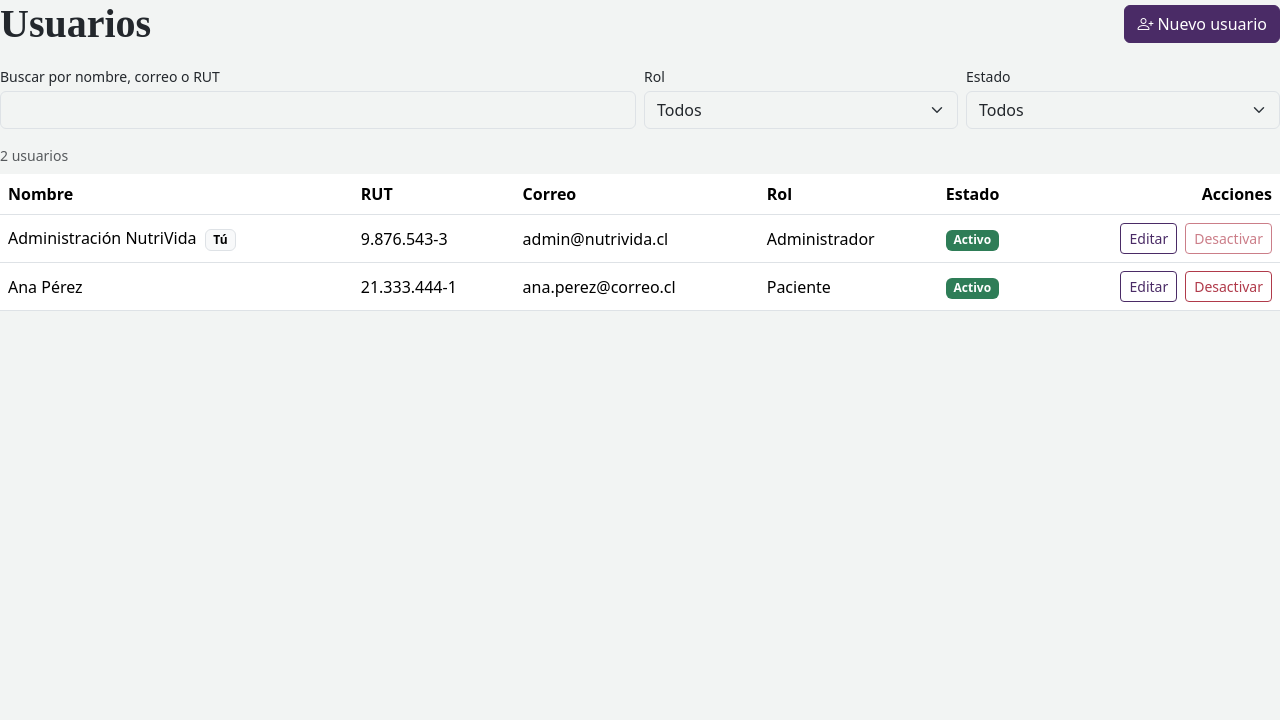
Test: AdminUsuarios › desactiva un usuario solo después de confirmar en el diálogo
What coordinates should you click on to do the following:
click the button with aria-label "Desactivar a Ana Pérez"
I would click on:
 (1229, 286)
Its box is [1185,271,1272,302].
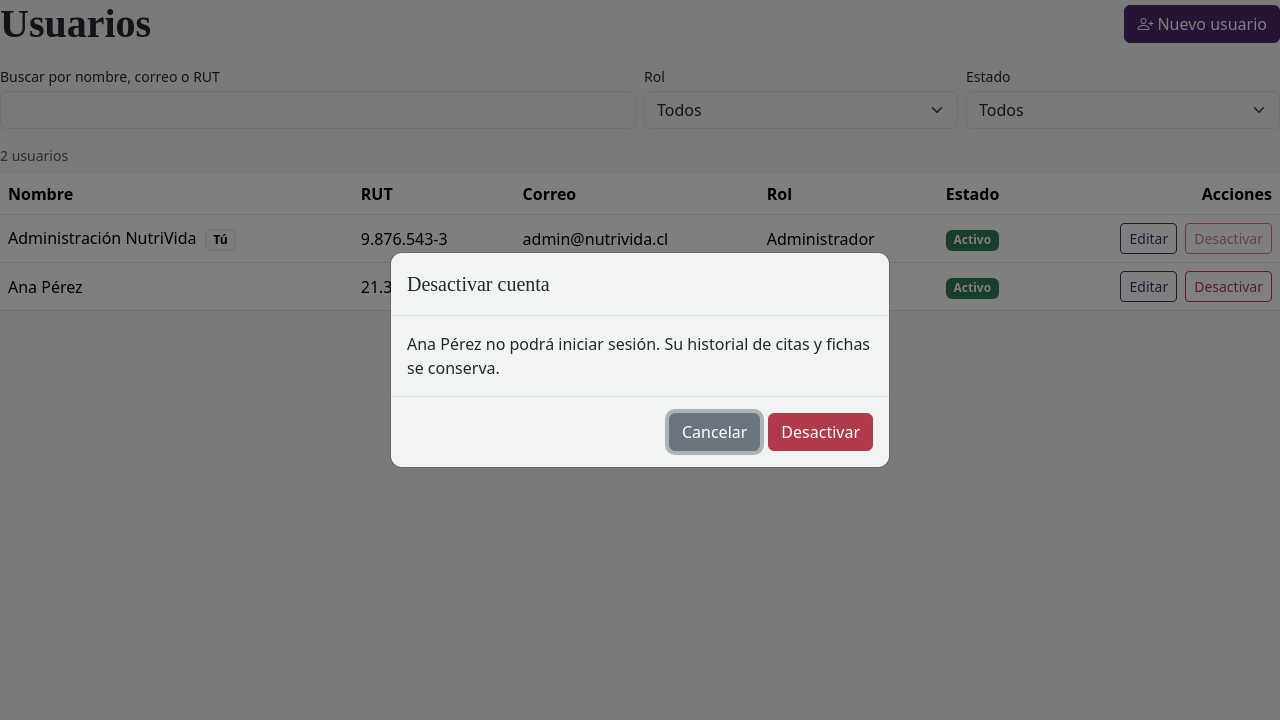
What coordinates should you click on to do the following:
click the button "Desactivar"
I would click on:
 (821, 432)
Its box is [768,413,873,451].
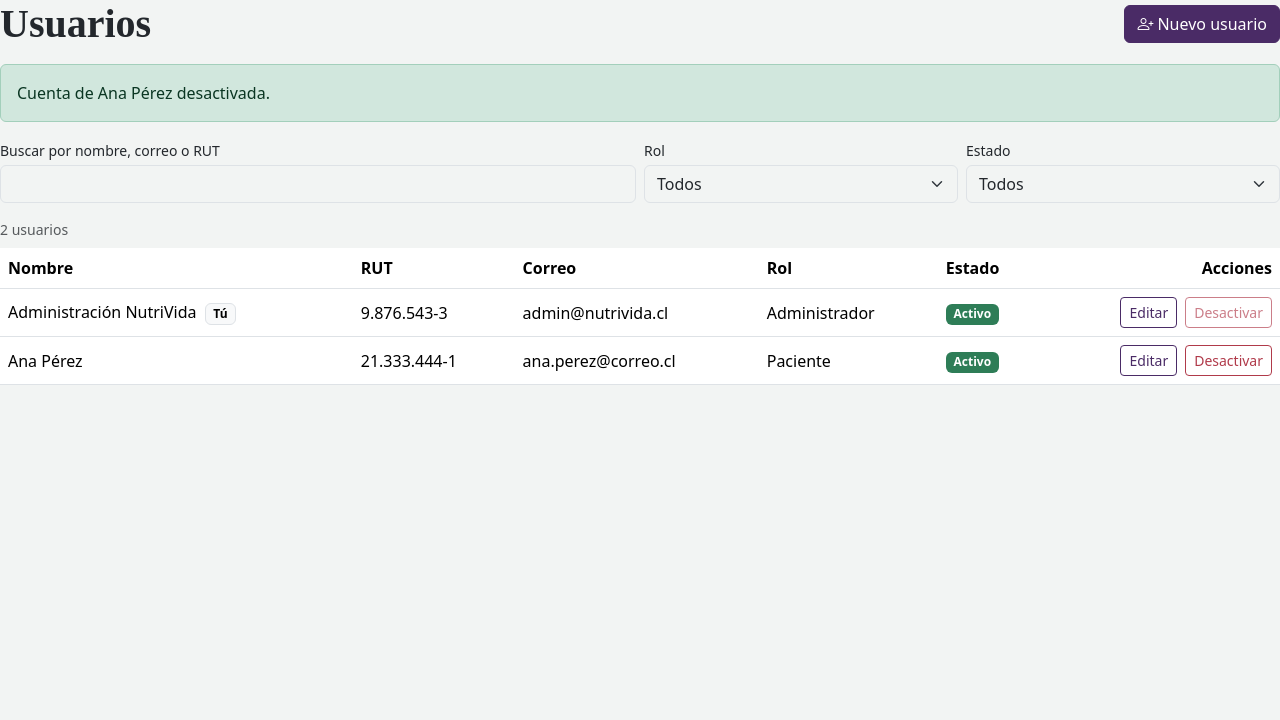
Check: the message reads "Cuenta de Ana Pérez desactivada.", box [17,82,270,104]
Check: the dialog is gone
